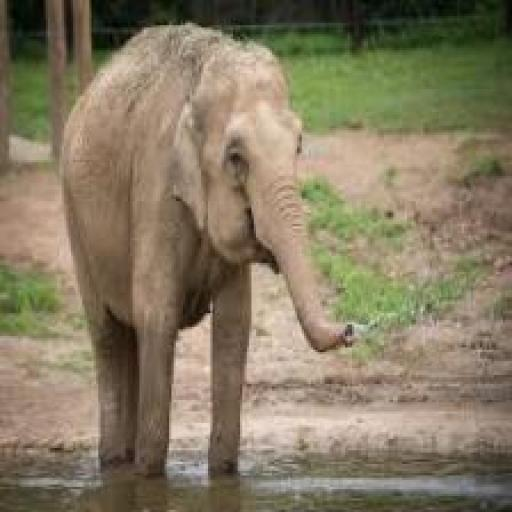Elephant: (57, 20, 351, 494)
